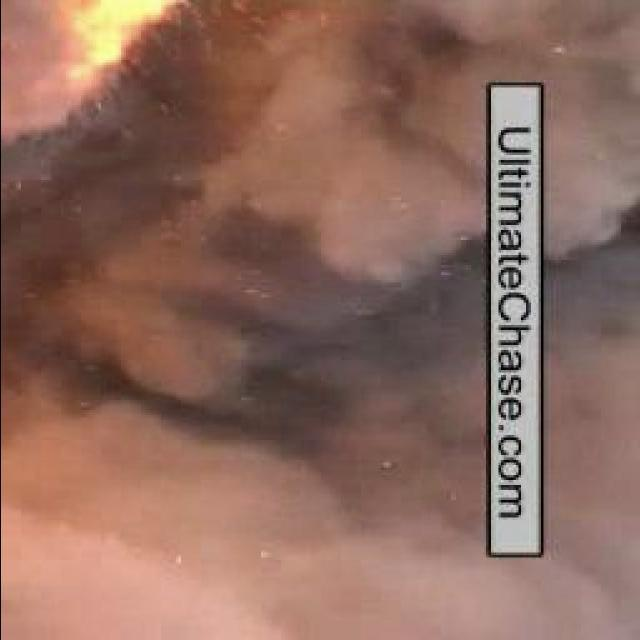Fire: (5, 0, 216, 136)
